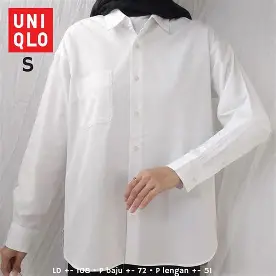kemeja_benar: (37, 13, 249, 265)
